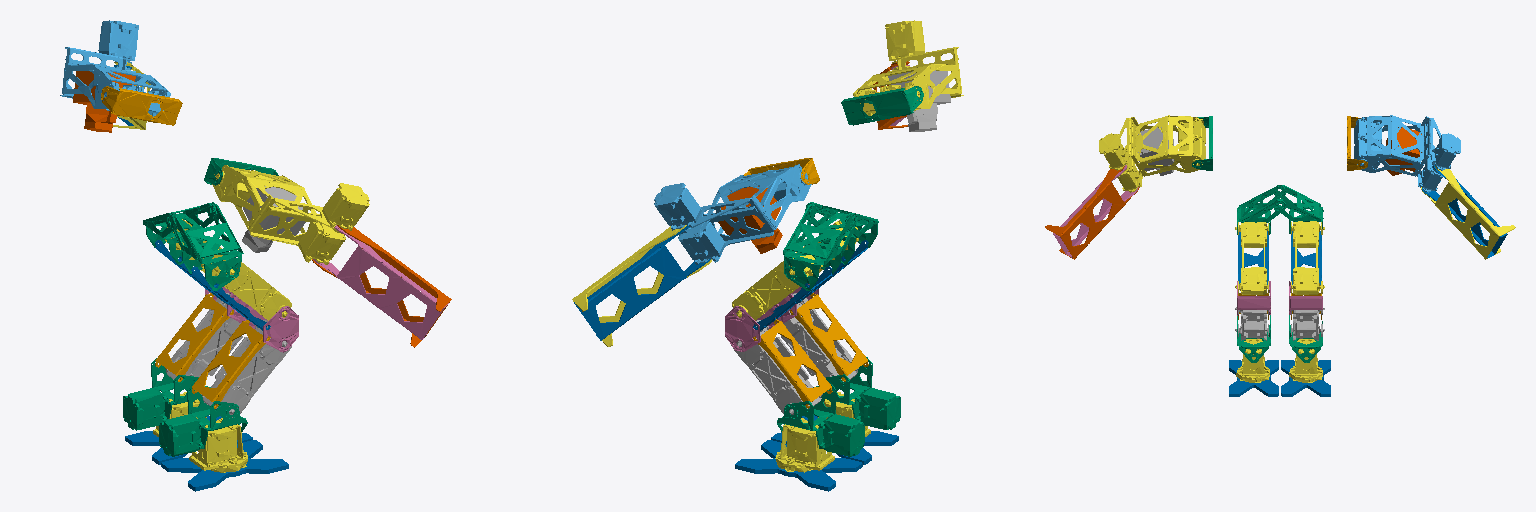
--- Render facts (derived) ---
3 views of the same robot in one strip: view 1: azimuth 30°, elevation 25°; view 2: azimuth 150°, elevation 25°; view 3: azimuth 270°, elevation 25° (orthographic).
Robot: ginko_xacro — 46 links, 45 joints (33 revolute, 12 fixed); root link body_link0; default pose: all joints at 0.
Visible links, largest first — view 1: arm_r_link1, arm_l_link1, arm_r_link3, leg_r_link0, leg_r_link6, leg_l_link6, leg_r_link4, leg_l_link5, leg_r_link5, leg_r_link8, arm_l_link0, leg_r_link7 (+10 smaller); view 2: arm_l_link1, arm_r_link1, arm_l_link3, leg_l_link0, leg_l_link6, leg_r_link6, leg_l_link4, leg_l_link5, leg_r_link5, leg_l_link8, arm_r_link0, leg_l_link7 (+10 smaller); view 3: arm_l_link1, arm_r_link1, arm_r_link2, arm_l_link2, leg_l_link1, leg_r_link1, leg_r_link0, leg_l_link0, leg_l_link8, leg_r_link8, arm_l_link3, arm_r_link3 (+10 smaller).
Link boxes in pixels (x1,y1,x2,y2): arm_r_link1: [212, 165, 369, 264]; arm_l_link1: [60, 20, 170, 119]; arm_r_link3: [313, 225, 448, 339]; leg_r_link0: [170, 202, 243, 290]; leg_r_link6: [159, 384, 247, 456]; leg_l_link6: [123, 358, 198, 430]; leg_r_link4: [201, 320, 291, 417]; leg_l_link5: [155, 293, 233, 381]; leg_r_link5: [192, 320, 270, 408]; leg_r_link8: [161, 440, 288, 491]; arm_l_link0: [101, 86, 182, 125]; leg_r_link7: [189, 418, 247, 472]; arm_l_link1: [654, 164, 811, 264]; arm_r_link1: [853, 20, 963, 115]; arm_l_link3: [574, 225, 710, 340]; leg_l_link0: [783, 202, 857, 290]; leg_l_link6: [777, 384, 864, 456]; leg_r_link6: [826, 357, 900, 429]; leg_l_link4: [731, 320, 822, 414]; leg_l_link5: [753, 319, 832, 408]; leg_r_link5: [790, 293, 868, 381]; leg_l_link8: [735, 440, 862, 491]; arm_r_link0: [841, 86, 923, 125]; leg_l_link7: [775, 418, 834, 472]; arm_l_link1: [1354, 115, 1460, 192]; arm_r_link1: [1099, 115, 1205, 192]; arm_r_link2: [1045, 166, 1139, 259]; arm_l_link2: [1421, 166, 1515, 259]; leg_l_link1: [1291, 221, 1324, 294]; leg_r_link1: [1235, 222, 1268, 294]; leg_r_link0: [1237, 185, 1286, 234]; leg_l_link0: [1276, 185, 1323, 233]; leg_l_link8: [1281, 360, 1330, 396]; leg_r_link8: [1229, 360, 1278, 396]; arm_l_link3: [1422, 165, 1507, 257]; arm_r_link3: [1053, 165, 1138, 257].
Size in the robot's own frame: 0.2079 by 0.7542 by 0.448 metres.
28 mesh visuals loaded from 25 distinct referenced files (23 OBJ); not drawn: 2 (reference not matched to a file when rendering).

URDF robot description (ginko_xacro):
<?xml version="1.0" ?>
<!-- =================================================================================== -->
<!-- |    This document was autogenerated by xacro from ./ginko.xacro                  | -->
<!-- |    EDITING THIS FILE BY HAND IS NOT RECOMMENDED                                 | -->
<!-- =================================================================================== -->
<robot name="ginko_xacro" xmlns:xacro="http://www.ros.org/wiki/xacro">
  <!-- chest -->
  <link name="body_link0">
    <collision>
      <origin rpy="0 0 0" xyz="0 0 0"/>
      <geometry>
        <mesh filename="package://ginko_description/meshes/stl/link00_chest.stl"/>
      </geometry>
    </collision>
    <visual>
      <origin rpy="0 0 0" xyz="0 0 0"/>
      <geometry>
        <mesh filename="package://ginko_description/meshes/obj/link00_chest.obj"/>
      </geometry>
    </visual>
    <inertial>
      <mass value="1.41502697"/>
      <origin rpy="0 0 0" xyz="0.00008301 0.00000908 0.03819562"/>
      <inertia ixx="0.00248548" ixy="-0.00000074" ixz="0.000003761" iyy="0.00121388" iyz="-0.00000042" izz="0.00287756"/>
    </inertial>
  </link>
  <!-- Joint1 -->
  <joint name="body_joint1" type="revolute">
    <parent link="body_link0"/>
    <child link="body_link1"/>
    <origin rpy="0 0 0" xyz="0.0 0 0"/>
    <axis xyz="0 0 1"/>
    <limit effort="1000.0" lower="-2.6" upper="2.6" velocity="10.0"/>
    <dynamics damping="0.1" friction="0.1"/>
  </joint>
  <!-- waist -->
  <link name="body_link1">
    <collision>
      <origin rpy="0 0 0" xyz="0 0 0"/>
      <geometry>
        <mesh filename="package://ginko_description/meshes/stl/link01_waist.stl"/>
      </geometry>
    </collision>
    <visual>
      <origin rpy="0 0 0" xyz="0 0 0"/>
      <geometry>
        <mesh filename="package://ginko_description/meshes/obj/link01_waist.obj"/>
      </geometry>
    </visual>
    <inertial>
      <mass value="0.33312665"/>
      <origin rpy="0 0 0" xyz="-0.01135452 -0.00000134 -0.02720222"/>
      <inertia ixx="0.00015328" ixy="0.00000003" ixz="0.00001078" iyy="0.00073745" iyz="0.00000000" izz="0.00073107"/>
    </inertial>
  </link>
  <gazebo reference="body_link0">
    <kp>1000000.0</kp>
    <kd>100.0</kd>
    <mu1>0.1</mu1>
    <maxVel>10.0</maxVel>
    <minDepth>0.0001</minDepth>
    <maxContacts>6</maxContacts>
    <selfCollide>false</selfCollide>
    <dampingFactor>0.00</dampingFactor>
  </gazebo>
  <transmission name="body_joint1_trans">
    <type>transmission_interface/SimpleTransmission</type>
    <joint name="body_joint1">
      <hardwareInterface>PositionDutyPidMotorInterface</hardwareInterface>
    </joint>
    <actuator name="body_joint1_motor">
      <hardwareInterface>PositionDutyPidMotorInterface</hardwareInterface>
      <mechanicalReduction>1</mechanicalReduction>
    </actuator>
  </transmission>
  <gazebo reference="body_link1">
    <kp>1000000.0</kp>
    <kd>100.0</kd>
    <mu1>0.1</mu1>
    <maxVel>10.0</maxVel>
    <minDepth>0.0001</minDepth>
    <maxContacts>6</maxContacts>
    <selfCollide>false</selfCollide>
    <dampingFactor>0.00</dampingFactor>
  </gazebo>
  <!-- Link conencts from body. Femoral first. -->
  <joint name="leg_r_joint0" type="revolute">
    <parent link="body_link1"/>
    <child link="leg_r_link0"/>
    <origin rpy="0 0 0" xyz="0.0205 0.0 -0.0409"/>
    <axis xyz="1 0 0"/>
    <limit effort="1000.0" lower="-1.0" upper="0.8" velocity="10.0"/>
    <dynamics damping="0.1" friction="0.1"/>
  </joint>
  <link name="leg_r_link0">
    <collision>
      <origin rpy="0 0 0" xyz="0 0 0"/>
      <geometry>
        <mesh filename="package://ginko_description/meshes/stl/link02_r_femoral.stl"/>
      </geometry>
    </collision>
    <visual>
      <origin rpy="0 0 0" xyz="0 0 0"/>
      <geometry>
        <mesh filename="package://ginko_description/meshes/obj/link02_r_femoral.obj"/>
      </geometry>
    </visual>
    <inertial>
      <mass value="0.03431457"/>
      <origin rpy="0 0 0" xyz="-0.02905818 -0.03723481 -0.02604954"/>
      <inertia ixx="0.00002441" ixy="0.00000001" ixz="0.00000021" iyy="0.00002285" iyz="0.00000391" izz="0.00002980"/>
    </inertial>
  </link>
  <!-- parallel link (upper-1st) -->
  <joint name="leg_r_joint1" type="revolute">
    <parent link="leg_r_link0"/>
    <child link="leg_r_link1"/>
    <origin rpy="0 0.7854 0" xyz="-0.0176 -0.0175 -0.0481"/>
    <axis xyz="0 1 0"/>
    <limit effort="1000.0" lower="-0.7854" upper="1.3" velocity="10.0"/>
    <dynamics damping="0.1" friction="0.1"/>
  </joint>
  <link name="leg_r_link1">
    <collision>
      <origin rpy="0 0 0" xyz="0 0 0"/>
      <geometry>
        <mesh filename="package://ginko_description/meshes/stl/link03_r_leg01.stl"/>
      </geometry>
    </collision>
    <visual>
      <origin rpy="0 0 0" xyz="0 0 0"/>
      <geometry>
        <mesh filename="package://ginko_description/meshes/obj/link03_r_leg01.obj"/>
      </geometry>
    </visual>
    <inertial>
      <mass value="0.15115113"/>
      <origin rpy="0 0 0" xyz="0.05000000 -0.02587267 0.00000000"/>
      <inertia ixx="0.00003721" ixy="0.00000000" ixz="0.00000000" iyy="0.00026035" iyz="0.00000000" izz="0.00028077"/>
    </inertial>
  </link>
  <joint name="leg_r_joint3" type="revolute">
    <parent link="leg_r_link1"/>
    <child link="leg_r_link3"/>
    <origin rpy="0 -0.7854 0" xyz="0.1 0.0 0.0"/>
    <axis xyz="0 -1 0"/>
    <limit effort="1000.0" lower="-0.7854" upper="1.3" velocity="10.0"/>
    <dynamics damping="0.1" friction="0.1"/>
    <mimic joint="leg_r_joint1" multiplier="1" offset="0"/>
  </joint>
  <!-- parallel link (upper-2nd) -->
  <joint name="leg_r_joint2" type="revolute">
    <parent link="leg_r_link0"/>
    <child link="leg_r_link2"/>
    <origin rpy="0 0.7854 0" xyz="-0.0389 -0.0175 -0.06015"/>
    <axis xyz="0 1 0"/>
    <limit effort="1000.0" lower="-0.7854" upper="1.3" velocity="10.0"/>
    <dynamics damping="0.0" friction="0.0"/>
    <mimic joint="leg_r_joint1" multiplier="1" offset="0"/>
  </joint>
  <link name="leg_r_link2">
    <collision>
      <origin rpy="0 0 0" xyz="0 0 0"/>
      <geometry>
        <mesh filename="package://ginko_description/meshes/stl/link04_r_leg02.stl"/>
      </geometry>
    </collision>
    <visual>
      <origin rpy="0 0 0" xyz="0 0 0"/>
      <geometry>
        <mesh filename="package://ginko_description/meshes/obj/link04_r_leg02.obj"/>
      </geometry>
    </visual>
    <inertial>
      <mass value="0.01646643"/>
      <origin rpy="0 0 0" xyz="0.05000000 -0.02495100 -0.00491150"/>
      <inertia ixx="0.00000640" ixy="0.00000000" ixz="0.00000000" iyy="0.00001642" iyz="0.00000000" izz="0.00002264"/>
    </inertial>
  </link>
  <joint name="close_leg_r_joint0" type="revolute">
    <parent link="leg_r_link2"/>
    <child link="dummy0_leg_r_link3"/>
    <origin rpy="0 -0.7854 0" xyz="0.1 0.0 0.0"/>
    <axis xyz="0 -1 0"/>
    <limit effort="1000.0" lower="-0.7854" upper="1.3" velocity="10.0"/>
    <dynamics damping="0.0" friction="0.0"/>
    <mimic joint="leg_r_joint1" multiplier="1" offset="0"/>
  </joint>
  <link name="dummy0_leg_r_link3">
    <inertial>
      <mass value="0.00001"/>
      <origin rpy="0 0 0" xyz="-0.021 0 -0.012"/>
      <inertia ixx="0.00000001" ixy="0.00000000" ixz="0.00000000" iyy="0.00000001" iyz="0.00000000" izz="0.00000001"/>
    </inertial>
  </link>
  <!-- knee -->
  <link name="leg_r_link3">
    <collision>
      <origin rpy="0 0 0" xyz="0 0 0"/>
      <geometry>
        <mesh filename="package://ginko_description/meshes/stl/link05_r_knee.stl"/>
      </geometry>
    </collision>
    <visual>
      <origin rpy="0 0 0" xyz="0 0 0"/>
      <geometry>
        <mesh filename="package://ginko_description/meshes/obj/link05_r_knee.obj"/>
      </geometry>
    </visual>
    <inertial>
      <mass value="0.01781176"/>
      <origin rpy="0 0 0" xyz="0.00393357 -0.02364163 -0.01930000"/>
      <inertia ixx="0.00001301" ixy="-0.00000008" ixz="0.00000000" iyy="0.00000700" iyz="0.00000000" izz="0.00001388"/>
    </inertial>
  </link>
  <!-- parallel link (lower-1st) -->
  <joint name="leg_r_joint4" type="revolute">
    <parent link="leg_r_link3"/>
    <child link="leg_r_link4"/>
    <origin rpy="0 2.3562 0" xyz="0 0 -0.0386"/>
    <axis xyz="0 1 0"/>
    <limit effort="1000.0" lower="-1.3" upper="0.7854" velocity="10.0"/>
    <dynamics damping="0.1" friction="0.1"/>
  </joint>
  <link name="leg_r_link4">
    <collision>
      <origin rpy="0 0 0" xyz="0 0 0"/>
      <geometry>
        <mesh filename="package://ginko_description/meshes/stl/link03_r_leg01.stl"/>
      </geometry>
    </collision>
    <visual>
      <origin rpy="0 0 0" xyz="0 0 0"/>
      <geometry>
        <mesh filename="package://ginko_description/meshes/obj/link03_r_leg01.obj"/>
      </geometry>
    </visual>
    <inertial>
      <mass value="0.15115113"/>
      <origin rpy="0 0 0" xyz="0.05000000 -0.02587267 0.00000000"/>
      <inertia ixx="0.00003721" ixy="0.00000000" ixz="0.00000000" iyy="0.00026035" iyz="0.00000000" izz="0.00028077"/>
    </inertial>
  </link>
  <joint name="leg_r_joint6" type="revolute">
    <parent link="leg_r_link4"/>
    <child link="leg_r_link6"/>
    <origin rpy="0 -2.3562 0" xyz="0.1 0.0 0.0"/>
    <axis xyz="0 -1 0"/>
    <limit effort="1000.0" lower="-1.3" upper="0.7854" velocity="10.0"/>
    <dynamics damping="0.1" friction="0.1"/>
    <mimic joint="leg_r_joint4" multiplier="1" offset="0"/>
  </joint>
  <!-- parallel link (lower-2nd) -->
  <joint name="leg_r_joint5" type="revolute">
    <parent link="leg_r_link3"/>
    <child link="leg_r_link5"/>
    <origin rpy="0 2.3562 0" xyz="-0.0213 0 -0.02655"/>
    <axis xyz="0 1 0"/>
    <limit effort="0.0" lower="-1.3" upper="0.7854" velocity="10.0"/>
    <dynamics damping="0.0" friction="0.0"/>
    <mimic joint="leg_r_joint4" multiplier="1" offset="0"/>
  </joint>
  <link name="leg_r_link5">
    <collision>
      <origin rpy="0 0 0" xyz="0 0 0"/>
      <geometry>
        <mesh filename="package://ginko_description/meshes/stl/link04_r_leg02.stl"/>
      </geometry>
    </collision>
    <visual>
      <origin rpy="0 0 0" xyz="0 0 0"/>
      <geometry>
        <mesh filename="package://ginko_description/meshes/obj/link04_r_leg02.obj"/>
      </geometry>
    </visual>
    <inertial>
      <mass value="0.01646643"/>
      <origin rpy="0 0 0" xyz="0.05000000 -0.02495100 -0.00491150"/>
      <inertia ixx="0.00000640" ixy="0.00000000" ixz="0.00000000" iyy="0.00001642" iyz="0.00000000" izz="0.00002264"/>
    </inertial>
  </link>
  <joint name="close_leg_r_joint1" type="revolute">
    <parent link="leg_r_link5"/>
    <child link="dummy2_leg_r_link6"/>
    <origin rpy="0 -2.3562 0" xyz="0.1 0.0 0.0"/>
    <axis xyz="0 -1 0"/>
    <limit effort="0.0" lower="-1.3" upper="0.7854" velocity="10.0"/>
    <dynamics damping="0.0" friction="0.0"/>
    <mimic joint="leg_r_joint4" multiplier="1" offset="0"/>
  </joint>
  <link name="dummy2_leg_r_link6">
    <inertial>
      <mass value="0.00001"/>
      <origin rpy="0 0 0" xyz="-0.021 0 0.012"/>
      <inertia ixx="0.00000001" ixy="0.00000000" ixz="0.00000000" iyy="0.00000001" iyz="0.00000000" izz="0.00000001"/>
    </inertial>
  </link>
  <!-- toe -->
  <link name="leg_r_link6">
    <collision>
      <origin rpy="0 0 0" xyz="0 0 0"/>
      <geometry>
        <mesh filename="package://ginko_description/meshes/stl/link06_r_toe01.stl"/>
      </geometry>
    </collision>
    <visual>
      <origin rpy="0 0 0" xyz="0 0 0"/>
      <geometry>
        <mesh filename="package://ginko_description/meshes/obj/link06_r_toe01.obj"/>
      </geometry>
    </visual>
    <inertial>
      <mass value="0.08799204"/>
      <origin rpy="0 0 0" xyz="-0.04166125 -0.02463880 -0.02586249"/>
      <inertia ixx="0.00002815" ixy="0.00000041" ixz="0.00000980" iyy="0.00006846" iyz="0.00000026" izz="0.00006529"/>
    </inertial>
  </link>
  <joint name="leg_r_joint7" type="revolute">
    <parent link="leg_r_link6"/>
    <child link="leg_r_link7"/>
    <origin rpy="0 0 0" xyz="-0.028 -0.02475 -0.0391"/>
    <axis xyz="-1 0 0"/>
    <limit effort="1000.0" lower="-1.6" upper="1.6" velocity="10.0"/>
    <dynamics damping="0.1" friction="0.1"/>
  </joint>
  <link name="leg_r_link7">
    <collision>
      <origin rpy="0 0 0" xyz="0 0 0"/>
      <geometry>
        <mesh filename="package://ginko_description/meshes/stl/link07_r_toe02.stl"/>
      </geometry>
    </collision>
    <visual>
      <origin rpy="0 0 0" xyz="0 0 0"/>
      <geometry>
        <mesh filename="package://ginko_description/meshes/obj/link07_r_toe02.obj"/>
      </geometry>
    </visual>
    <inertial>
      <mass value="0.10920041"/>
      <origin rpy="0 0 0" xyz="0.02658756 -0.00000053 -0.01782468"/>
      <inertia ixx="0.00003853" ixy="0.00000000" ixz="-0.00000479" iyy="0.00005192" iyz="0.00000000" izz="0.00003521"/>
    </inertial>
  </link>
  <joint name="leg_r_joint8" type="revolute">
    <parent link="leg_r_link7"/>
    <child link="leg_r_link8"/>
    <origin rpy="0 0 0" xyz="0.0342 0 -0.04"/>
    <axis xyz="0 0 1"/>
    <limit effort="1000.0" lower="-2.6" upper="2.6" velocity="10.0"/>
    <dynamics damping="0.1" friction="0.1"/>
  </joint>
  <link name="leg_r_link8">
    <collision>
      <origin rpy="0 0 0" xyz="0 0 -0.003"/>
      <geometry>
        <box size="0.128 0.08 0.006"/>
      </geometry>
    </collision>
    <visual>
      <origin rpy="0 0 0" xyz="0 0 0"/>
      <geometry>
        <mesh filename="package://ginko_description/meshes/obj/link08_r_toe03.obj"/>
      </geometry>
    </visual>
    <inertial>
      <mass value="0.05363111"/>
      <origin rpy="0 0 0" xyz="0.00000000 0.00000000 -0.00269342"/>
      <inertia ixx="0.00002877" ixy="0.00000000" ixz="0.00000000" iyy="0.00007083" iyz="-0.00000000" izz="0.00009934"/>
    </inertial>
  </link>
  <joint name="leg_r_toe_joint0" type="fixed">
    <parent link="leg_r_link8"/>
    <child link="leg_r_toe_link0"/>
    <origin rpy="0 0 0" xyz="0.064 0.040 -0.005"/>
  </joint>
  <link name="leg_r_toe_link0"/>
  <joint name="leg_r_toe_joint1" type="fixed">
    <parent link="leg_r_link8"/>
    <child link="leg_r_toe_link1"/>
    <origin rpy="0 0 0" xyz="-0.064 0.040 -0.005"/>
  </joint>
  <link name="leg_r_toe_link1"/>
  <joint name="leg_r_toe_joint2" type="fixed">
    <parent link="leg_r_link8"/>
    <child link="leg_r_toe_link2"/>
    <origin rpy="0 0 0" xyz="-0.064 -0.040 -0.005"/>
  </joint>
  <link name="leg_r_toe_link2"/>
  <joint name="leg_r_toe_joint3" type="fixed">
    <parent link="leg_r_link8"/>
    <child link="leg_r_toe_link3"/>
    <origin rpy="0 0 0" xyz="0.064 -0.040 -0.005"/>
  </joint>
  <link name="leg_r_toe_link3"/>
  <joint name="leg_r_toe_center_joint" type="fixed">
    <parent link="leg_r_link8"/>
    <child link="leg_r_toe_center"/>
    <origin rpy="0 0 0" xyz="0.0 0.0 -0.005"/>
  </joint>
  <link name="leg_r_toe_center"/>
  <gazebo reference="leg_r_link0">
    <kp>1000000.0</kp>
    <kd>100.0</kd>
    <mu1>0.2</mu1>
    <maxVel>10.0</maxVel>
    <minDepth>0.0001</minDepth>
    <maxContacts>6</maxContacts>
    <selfCollide>false</selfCollide>
    <dampingFactor>0.00</dampingFactor>
  </gazebo>
  <gazebo reference="leg_r_link1">
    <kp>1000000.0</kp>
    <kd>100.0</kd>
    <mu1>0.2</mu1>
    <maxVel>10.0</maxVel>
    <minDepth>0.0001</minDepth>
    <maxContacts>6</maxContacts>
    <selfCollide>false</selfCollide>
    <dampingFactor>0.00</dampingFactor>
  </gazebo>
  <gazebo reference="leg_r_link3">
    <kp>1000000.0</kp>
    <kd>100.0</kd>
    <mu1>0.2</mu1>
    <maxVel>10.0</maxVel>
    <minDepth>0.0001</minDepth>
    <maxContacts>6</maxContacts>
    <selfCollide>false</selfCollide>
    <dampingFactor>0.00</dampingFactor>
  </gazebo>
  <gazebo reference="leg_r_link4">
    <kp>1000000.0</kp>
    <kd>100.0</kd>
    <mu1>0.2</mu1>
    <maxVel>10.0</maxVel>
    <minDepth>0.0001</minDepth>
    <maxContacts>6</maxContacts>
    <selfCollide>false</selfCollide>
    <dampingFactor>0.00</dampingFactor>
  </gazebo>
  <gazebo reference="leg_r_link6">
    <kp>1000000.0</kp>
    <kd>100.0</kd>
    <mu1>0.2</mu1>
    <maxVel>10.0</maxVel>
    <minDepth>0.0001</minDepth>
    <maxContacts>6</maxContacts>
    <selfCollide>false</selfCollide>
    <dampingFactor>0.00</dampingFactor>
  </gazebo>
  <gazebo reference="leg_r_link7">
    <kp>1000000.0</kp>
    <kd>100.0</kd>
    <mu1>0.2</mu1>
    <maxVel>10.0</maxVel>
    <minDepth>0.0001</minDepth>
    <maxContacts>6</maxContacts>
    <selfCollide>false</selfCollide>
    <dampingFactor>0.00</dampingFactor>
  </gazebo>
  <!-- <xacro:default_link_collision link_name="leg_r_link8" friction="1.0"/> -->
  <gazebo reference="leg_r_link8">
    <kp>2000000.0</kp>
    <kd>200.0</kd>
    <mu1>10.0</mu1>
    <maxVel>1.0</maxVel>
    <minDepth>0.0001</minDepth>
    <maxContacts>6</maxContacts>
    <selfCollide>true</selfCollide>
    <dampingFactor>0.0</dampingFactor>
  </gazebo>
  <transmission name="leg_r_joint0_trans">
    <type>transmission_interface/SimpleTransmission</type>
    <joint name="leg_r_joint0">
      <hardwareInterface>PositionDutyPidMotorInterface</hardwareInterface>
    </joint>
    <actuator name="leg_r_joint0_motor">
      <hardwareInterface>PositionDutyPidMotorInterface</hardwareInterface>
      <mechanicalReduction>1</mechanicalReduction>
    </actuator>
  </transmission>
  <transmission name="leg_r_joint1_trans">
    <type>transmission_interface/SimpleTransmission</type>
    <joint name="leg_r_joint1">
      <hardwareInterface>PositionDutyPidMotorInterface</hardwareInterface>
    </joint>
    <actuator name="leg_r_joint1_motor">
      <hardwareInterface>PositionDutyPidMotorInterface</hardwareInterface>
      <mechanicalReduction>1</mechanicalReduction>
    </actuator>
  </transmission>
  <transmission name="leg_r_joint3_trans">
    <type>transmission_interface/SimpleTransmission</type>
    <joint name="leg_r_joint3">
      <hardwareInterface>PositionDutyPidMotorInterface</hardwareInterface>
    </joint>
    <actuator name="leg_r_joint3_motor">
      <hardwareInterface>PositionDutyPidMotorInterface</hardwareInterface>
      <mechanicalReduction>1</mechanicalReduction>
    </actuator>
  </transmission>
  <transmission name="leg_r_joint4_trans">
    <type>transmission_interface/SimpleTransmission</type>
    <joint name="leg_r_joint4">
      <hardwareInterface>PositionDutyPidMotorInterface</hardwareInterface>
    </joint>
    <actuator name="leg_r_joint4_motor">
      <hardwareInterface>PositionDutyPidMotorInterface</hardwareInterface>
      <mechanicalReduction>1</mechanicalReduction>
    </actuator>
  </transmission>
  <transmission name="leg_r_joint6_trans">
    <type>transmission_interface/SimpleTransmission</type>
    <joint name="leg_r_joint6">
      <hardwareInterface>PositionDutyPidMotorInterface</hardwareInterface>
    </joint>
    <actuator name="leg_r_joint6_motor">
      <hardwareInterface>PositionDutyPidMotorInterface</hardwareInterface>
      <mechanicalReduction>1</mechanicalReduction>
    </actuator>
  </transmission>
  <transmission name="leg_r_joint7_trans">
    <type>transmission_interface/SimpleTransmission</type>
    <joint name="leg_r_joint7">
      <hardwareInterface>PositionDutyPidMotorInterface</hardwareInterface>
    </joint>
    <actuator name="leg_r_joint7_motor">
      <hardwareInterface>PositionDutyPidMotorInterface</hardwareInterface>
      <mechanicalReduction>1</mechanicalReduction>
    </actuator>
  </transmission>
  <transmission name="leg_r_joint8_trans">
    <type>transmission_interface/SimpleTransmission</type>
    <joint name="leg_r_joint8">
      <hardwareInterface>PositionDutyPidMotorInterface</hardwareInterface>
    </joint>
    <actuator name="leg_r_joint8_motor">
      <hardwareInterface>PositionDutyPidMotorInterface</hardwareInterface>
      <mechanicalReduction>1</mechanicalReduction>
    </actuator>
  </transmission>
  <!-- Link conencts from body. Femoral first. -->
  <joint name="leg_l_joint0" type="revolute">
    <parent link="body_link1"/>
    <child link="leg_l_link0"/>
    <origin rpy="0 0 0" xyz="-0.0404 0.0 -0.0409"/>
    <axis xyz="-1 0 0"/>
    <limit effort="1000.0" lower="-0.8" upper="1.0" velocity="10.0"/>
    <dynamics damping="0.1" friction="0.1"/>
  </joint>
  <link name="leg_l_link0">
    <collision>
      <origin rpy="0 0 0" xyz="0 0 0"/>
      <geometry>
        <mesh filename="package://ginko_description/meshes/stl/link02_l_femoral.stl"/>
      </geometry>
    </collision>
    <visual>
      <origin rpy="0 0 0" xyz="0 0 0"/>
      <geometry>
        <mesh filename="package://ginko_description/meshes/obj/link02_l_femoral.obj"/>
      </geometry>
    </visual>
    <inertial>
      <mass value="0.03433352"/>
      <origin rpy="0 0 0" xyz="0.02930795 0.03723759 -0.02605386"/>
      <inertia ixx="0.00002443" ixy="-0.00000021" ixz="-0.00000021" iyy="0.00002287" iyz="-0.00000391" izz="0.00002983"/>
    </inertial>
  </link>
  <!-- parallel link (upper-1st) -->
  <joint name="leg_l_joint1" type="revolute">
    <parent link="leg_l_link0"/>
    <child link="leg_l_link1"/>
    <origin rpy="0 0.7854 0" xyz="0.0433 0.0175 -0.0481"/>
    <axis xyz="0 -1 0"/>
    <limit effort="1000.0" lower="-1.3" upper="0.7854" velocity="10.0"/>
    <dynamics damping="0.1" friction="0.1"/>
  </joint>
  <link name="leg_l_link1">
    <collision>
      <origin rpy="0 0 0" xyz="0 0 0"/>
      <geometry>
        <mesh filename="package://ginko_description/meshes/stl/link03_l_leg01.stl"/>
      </geometry>
    </collision>
    <visual>
      <origin rpy="0 0 0" xyz="0 0 0"/>
      <geometry>
        <mesh filename="package://ginko_description/meshes/obj/link03_l_leg01.obj"/>
      </geometry>
    </visual>
    <inertial>
      <mass value="0.15115113"/>
      <origin rpy="0 0 0" xyz="0.05000000 0.02587267 0.00000000"/>
      <inertia ixx="0.00003721" ixy="0.00000000" ixz="0.00000000" iyy="0.00026035" iyz="0.00000000" izz="0.00028077"/>
    </inertial>
  </link>
  <joint name="leg_l_joint3" type="revolute">
    <parent link="leg_l_link1"/>
    <child link="leg_l_link3"/>
    <origin rpy="0 -0.7854 0" xyz="0.1 0.0 0.0"/>
    <axis xyz="0 1 0"/>
    <limit effort="1000.0" lower="-1.3" upper="0.7854" velocity="10.0"/>
    <dynamics damping="0.1" friction="0.1"/>
    <mimic joint="leg_l_joint1" multiplier="1" offset="0"/>
  </joint>
  <!-- parallel link (upper-2nd) -->
  <joint name="leg_l_joint2" type="revolute">
    <parent link="leg_l_link0"/>
    <child link="leg_l_link2"/>
    <origin rpy="0 0.7854 0" xyz="0.022 0.0175 -0.06015"/>
    <axis xyz="0 -1 0"/>
    <limit effort="1000.0" lower="-1.3" upper="0.7854" velocity="10.0"/>
    <dynamics damping="0.1" friction="0.1"/>
    <mimic joint="leg_l_joint1" multiplier="1" offset="0"/>
  </joint>
  <link name="leg_l_link2">
    <collision>
      <origin rpy="0 0 0" xyz="0 0 0"/>
      <geometry>
        <mesh filename="package://ginko_description/meshes/stl/link04_l_leg02.stl"/>
      </geometry>
    </collision>
    <visual>
      <origin rpy="0 0 0" xyz="0 0 0"/>
      <geometry>
        <mesh filename="package://ginko_description/meshes/obj/link04_l_leg02.obj"/>
      </geometry>
    </visual>
    <inertial>
      <mass value="0.01646643"/>
      <origin rpy="0 0 0" xyz="0.05000000 0.02495100 -0.00491150"/>
      <inertia ixx="0.00000640" ixy="0.00000000" ixz="0.00000000" iyy="0.00001642" iyz="0.00000000" izz="0.00002264"/>
    </inertial>
  </link>
  <joint name="close_leg_l_joint0" type="revolute">
    <parent link="leg_l_link2"/>
    <child link="dummy0_leg_l_link3"/>
    <origin rpy="0 -0.7854 0" xyz="0.1 0.0 0.0"/>
    <axis xyz="0 1 0"/>
    <limit effort="1000.0" lower="-1.3" upper="0.7854" velocity="10.0"/>
    <dynamics damping="0.0" friction="0.0"/>
    <mimic joint="leg_l_joint1" multiplier="1" offset="0"/>
  </joint>
  <link name="dummy0_leg_l_link3">
    <inertial>
      <mass value="0.00001"/>
      <origin rpy="0 0 0" xyz="-0.021 0 -0.012"/>
      <inertia ixx="0.00000001" ixy="0.00000000" ixz="0.00000000" iyy="0.00000001" iyz="0.00000000" izz="0.00000001"/>
    </inertial>
  </link>
  <!-- knee -->
  <link name="leg_l_link3">
    <collision>
      <origin rpy="0 0 0" xyz="0 0 0"/>
      <geometry>
        <mesh filename="package://ginko_description/meshes/stl/link05_l_knee.stl"/>
      </geometry>
    </collision>
    <visual>
      <origin rpy="0 0 0" xyz="0 0 0"/>
      <geometry>
        <mesh filename="package://ginko_description/meshes/obj/link05_l_knee.obj"/>
      </geometry>
    </visual>
    <inertial>
      <mass value="0.01781176"/>
      <origin rpy="0 0 0" xyz="0.00393357 0.02364163 -0.01930000"/>
      <inertia ixx="0.00001301" ixy="0.00000008" ixz="0.00000000" iyy="0.00000700" iyz="0.00000000" izz="0.00001388"/>
    </inertial>
  </link>
  <!-- parallel link (lower-1st) -->
  <joint name="leg_l_joint4" type="revolute">
    <parent link="leg_l_link3"/>
    <child link="leg_l_link4"/>
    <origin rpy="0 2.3562 0" xyz="0 0 -0.0386"/>
    <axis xyz="0 -1 0"/>
    <limit effort="1000.0" lower="-0.7854" upper="1.3" velocity="10.0"/>
    <dynamics damping="0.1" friction="0.1"/>
  </joint>
  <link name="leg_l_link4">
    <collision>
      <origin rpy="0 0 0" xyz="0 0 0"/>
      <geometry>
        <mesh filename="package://ginko_description/meshes/stl/link03_l_leg01.stl"/>
      </geometry>
    </collision>
    <visual>
      <origin rpy="0 0 0" xyz="0 0 0"/>
      <geometry>
        <mesh filename="package://ginko_description/meshes/obj/link03_l_leg01.obj"/>
      </geometry>
    </visual>
    <inertial>
      <mass value="0.15115113"/>
      <origin rpy="0 0 0" xyz="0.05000000 0.02587267 0.00000000"/>
      <inertia ixx="0.00003721" ixy="0.00000000" ixz="0.00000000" iyy="0.00026035" iyz="0.00000000" izz="0.00028077"/>
    </inertial>
  </link>
  <joint name="leg_l_joint6" type="revolute">
    <parent link="leg_l_link4"/>
    <child link="leg_l_link6"/>
    <origin rpy="0 -2.3562 0" xyz="0.1 0.0 0.0"/>
    <axis xyz="0 1 0"/>
    <limit effort="1000.0" lower="-0.7854" upper="1.3" velocity="10.0"/>
    <dynamics damping="0.1" friction="0.1"/>
    <mimic joint="leg_l_joint4" multiplier="1" offset="0"/>
  </joint>
  <!-- parallel link (lower-2nd) -->
  <joint name="leg_l_joint5" type="revolute">
    <parent link="leg_l_link3"/>
    <child link="leg_l_link5"/>
    <origin rpy="0 2.3562 0" xyz="-0.0213 0 -0.02655"/>
    <axis xyz="0 -1 0"/>
    <limit effort="0.0" lower="-0.7854" upper="1.3" velocity="10.0"/>
    <dynamics damping="0.0" friction="0.0"/>
    <mimic joint="leg_l_joint4" multiplier="1" offset="0"/>
  </joint>
  <link name="leg_l_link5">
    <collision>
      <origin rpy="0 0 0" xyz="0 0 0"/>
      <geometry>
        <mesh filename="package://ginko_description/meshes/stl/link04_l_leg02.stl"/>
      </geometry>
    </collision>
    <visual>
      <origin rpy="0 0 0" xyz="0 0 0"/>
      <geometry>
        <mesh filename="package://ginko_description/meshes/obj/link04_l_leg02.obj"/>
      </geometry>
    </visual>
    <inertial>
      <mass value="0.01646643"/>
      <origin rpy="0 0 0" xyz="0.05000000 0.02495100 -0.00491150"/>
      <inertia ixx="0.00000640" ixy="0.00000000" ixz="0.00000000" iyy="0.00001642" iyz="0.00000000" izz="0.00002264"/>
    </inertial>
  </link>
  <joint name="close_leg_l_joint1" type="revolute">
    <parent link="leg_l_link5"/>
    <child link="dummy2_leg_l_link6"/>
    <origin rpy="0 -2.3562 0" xyz="0.1 0.0 0.0"/>
    <axis xyz="0 1 0"/>
    <limit effort="0.0" lower="-1.3" upper="0.7854" velocity="10.0"/>
    <dynamics damping="0.0" friction="0.0"/>
    <mimic joint="leg_l_joint4" multiplier="1" offset="0"/>
  </joint>
  <link name="dummy2_leg_l_link6">
    <inertial>
      <mass value="0.00001"/>
      <origin rpy="0 0 0" xyz="-0.021 0 0.012"/>
      <inertia ixx="0.00000001" ixy="0.00000000" ixz="0.00000000" iyy="0.00000001" iyz="0.00000000" izz="0.00000001"/>
    </inertial>
  </link>
  <!-- toe -->
  <link name="leg_l_link6">
    <collision>
      <origin rpy="0 0 0" xyz="0 0 0"/>
      <geometry>
        <mesh filename="package://ginko_description/meshes/stl/link06_l_toe01.stl"/>
      </geometry>
    </collision>
    <visual>
      <origin rpy="0 0 0" xyz="0 0 0"/>
      <geometry>
        <mesh filename="package://ginko_description/meshes/obj/link06_l_toe01.obj"/>
      </geometry>
    </visual>
    <inertial>
      <mass value="0.08799204"/>
      <origin rpy="0 0 0" xyz="-0.04166125 0.02463880 -0.02586249"/>
      <inertia ixx="0.00002815" ixy="-0.00000041" ixz="0.00000980" iyy="0.00006846" iyz="-0.00000026" izz="0.00006529"/>
    </inertial>
  </link>
  <joint name="leg_l_joint7" type="revolute">
    <parent link="leg_l_link6"/>
    <child link="leg_l_link7"/>
    <origin rpy="0 0 0" xyz="-0.028 0.02475 -0.0391"/>
    <axis xyz="-1 0 0"/>
    <limit effort="1000.0" lower="-1.6" upper="1.6" velocity="10.0"/>
    <dynamics damping="0.1" friction="0.1"/>
  </joint>
  <link name="leg_l_link7">
    <collision>
      <origin rpy="0 0 0" xyz="0 0 0"/>
      <geometry>
        <mesh filename="package://ginko_description/meshes/stl/link07_l_toe02.stl"/>
      </geometry>
    </collision>
    <visual>
      <origin rpy="0 0 0" xyz="0 0 0"/>
      <geometry>
        <mesh filename="package://ginko_description/meshes/obj/link07_l_toe02.obj"/>
      </geometry>
    </visual>
    <inertial>
      <mass value="0.10920041"/>
      <origin rpy="0 0 0" xyz="0.02658756 0.00000053 -0.01782468"/>
      <inertia ixx="0.00003853" ixy="0.00000000" ixz="-0.00000479" iyy="0.00005192" iyz="0.00000000" izz="0.00003521"/>
    </inertial>
  </link>
  <joint name="leg_l_joint8" type="revolute">
    <parent link="leg_l_link7"/>
    <child link="leg_l_link8"/>
    <origin rpy="0 0 0" xyz="0.0342 0 -0.04"/>
    <axis xyz="0 0 1"/>
    <limit effort="1000.0" lower="-2.6" upper="2.6" velocity="10.0"/>
    <dynamics damping="0.1" friction="0.1"/>
  </joint>
  <link name="leg_l_link8">
    <collision>
      <origin rpy="0 0 0" xyz="0 0 -0.003"/>
      <geometry>
        <box size="0.128 0.08 0.006"/>
      </geometry>
    </collision>
    <visual>
      <origin rpy="0 0 0" xyz="0 0 0"/>
      <geometry>
        <mesh filename="package://ginko_description/meshes/obj/link08_l_toe03.obj"/>
      </geometry>
    </visual>
    <inertial>
      <mass value="0.05363111"/>
      <origin rpy="0 0 0" xyz="0.00000000 0.00000000 -0.00269342"/>
      <inertia ixx="0.00002877" ixy="0.00000000" ixz="0.00000000" iyy="0.00007083" iyz="-0.00000000" izz="0.00009934"/>
    </inertial>
  </link>
  <joint name="leg_l_toe_joint0" type="fixed">
    <parent link="leg_l_link8"/>
    <child link="leg_l_toe_link0"/>
    <origin rpy="0 0 0" xyz="0.064 0.040 -0.005"/>
  </joint>
  <link name="leg_l_toe_link0"/>
  <joint name="leg_l_toe_joint1" type="fixed">
    <parent link="leg_l_link8"/>
    <child link="leg_l_toe_link1"/>
    <origin rpy="0 0 0" xyz="-0.064 0.040 -0.005"/>
  </joint>
  <link name="leg_l_toe_link1"/>
  <joint name="leg_l_toe_joint2" type="fixed">
    <parent link="leg_l_link8"/>
    <child link="leg_l_toe_link2"/>
    <origin rpy="0 0 0" xyz="-0.064 -0.040 -0.005"/>
  </joint>
  <link name="leg_l_toe_link2"/>
  <joint name="leg_l_toe_joint3" type="fixed">
    <parent link="leg_l_link8"/>
    <child link="leg_l_toe_link3"/>
    <origin rpy="0 0 0" xyz="0.064 -0.040 -0.005"/>
  </joint>
  <link name="leg_l_toe_link3"/>
  <joint name="leg_l_toe_center_joint" type="fixed">
    <parent link="leg_l_link8"/>
    <child link="leg_l_toe_center"/>
    <origin rpy="0 0 0" xyz="0.0 0.0 -0.005"/>
  </joint>
  <link name="leg_l_toe_center"/>
  <gazebo reference="leg_l_link0">
    <kp>1000000.0</kp>
    <kd>100.0</kd>
    <mu1>0.1</mu1>
    <maxVel>10.0</maxVel>
    <minDepth>0.0001</minDepth>
    <maxContacts>6</maxContacts>
    <selfCollide>false</selfCollide>
    <dampingFactor>0.00</dampingFactor>
  </gazebo>
  <gazebo reference="leg_l_link1">
    <kp>1000000.0</kp>
    <kd>100.0</kd>
    <mu1>0.1</mu1>
    <maxVel>10.0</maxVel>
    <minDepth>0.0001</minDepth>
    <maxContacts>6</maxContacts>
    <selfCollide>false</selfCollide>
    <dampingFactor>0.00</dampingFactor>
  </gazebo>
  <gazebo reference="leg_l_link3">
    <kp>1000000.0</kp>
    <kd>100.0</kd>
    <mu1>0.1</mu1>
    <maxVel>10.0</maxVel>
    <minDepth>0.0001</minDepth>
    <maxContacts>6</maxContacts>
    <selfCollide>false</selfCollide>
    <dampingFactor>0.00</dampingFactor>
  </gazebo>
  <gazebo reference="leg_l_link4">
    <kp>1000000.0</kp>
    <kd>100.0</kd>
    <mu1>0.1</mu1>
    <maxVel>10.0</maxVel>
    <minDepth>0.0001</minDepth>
    <maxContacts>6</maxContacts>
    <selfCollide>false</selfCollide>
    <dampingFactor>0.00</dampingFactor>
  </gazebo>
  <gazebo reference="leg_l_link6">
    <kp>1000000.0</kp>
    <kd>100.0</kd>
    <mu1>0.1</mu1>
    <maxVel>10.0</maxVel>
    <minDepth>0.0001</minDepth>
    <maxContacts>6</maxContacts>
    <selfCollide>false</selfCollide>
    <dampingFactor>0.00</dampingFactor>
  </gazebo>
  <gazebo reference="leg_l_link7">
    <kp>1000000.0</kp>
    <kd>100.0</kd>
    <mu1>0.1</mu1>
    <maxVel>10.0</maxVel>
    <minDepth>0.0001</minDepth>
    <maxContacts>6</maxContacts>
    <selfCollide>false</selfCollide>
    <dampingFactor>0.00</dampingFactor>
  </gazebo>
  <!-- <xacro:default_link_collision link_name="leg_l_link8" friction="1.0"/> -->
  <gazebo reference="leg_l_link8">
    <kp>2000000.0</kp>
    <kd>200.0</kd>
    <mu1>10.0</mu1>
    <maxVel>1.0</maxVel>
    <minDepth>0.0001</minDepth>
    <maxContacts>6</maxContacts>
    <selfCollide>true</selfCollide>
    <dampingFactor>0.0</dampingFactor>
  </gazebo>
  <transmission name="leg_l_joint0_trans">
    <type>transmission_interface/SimpleTransmission</type>
    <joint name="leg_l_joint0">
      <hardwareInterface>PositionDutyPidMotorInterface</hardwareInterface>
    </joint>
    <actuator name="leg_l_joint0_motor">
      <hardwareInterface>PositionDutyPidMotorInterface</hardwareInterface>
      <mechanicalReduction>1</mechanicalReduction>
    </actuator>
  </transmission>
  <transmission name="leg_l_joint1_trans">
    <type>transmission_interface/SimpleTransmission</type>
    <joint name="leg_l_joint1">
      <hardwareInterface>PositionDutyPidMotorInterface</hardwareInterface>
    </joint>
    <actuator name="leg_l_joint1_motor">
      <hardwareInterface>PositionDutyPidMotorInterface</hardwareInterface>
      <mechanicalReduction>1</mechanicalReduction>
    </actuator>
  </transmission>
  <transmission name="leg_l_joint3_trans">
    <type>transmission_interface/SimpleTransmission</type>
    <joint name="leg_l_joint3">
      <hardwareInterface>PositionDutyPidMotorInterface</hardwareInterface>
    </joint>
    <actuator name="leg_l_joint3_motor">
      <hardwareInterface>PositionDutyPidMotorInterface</hardwareInterface>
      <mechanicalReduction>1</mechanicalReduction>
    </actuator>
  </transmission>
  <transmission name="leg_l_joint4_trans">
    <type>transmission_interface/SimpleTransmission</type>
    <joint name="leg_l_joint4">
      <hardwareInterface>PositionDutyPidMotorInterface</hardwareInterface>
    </joint>
    <actuator name="leg_l_joint4_motor">
      <hardwareInterface>PositionDutyPidMotorInterface</hardwareInterface>
      <mechanicalReduction>1</mechanicalReduction>
    </actuator>
  </transmission>
  <transmission name="leg_l_joint6_trans">
    <type>transmission_interface/SimpleTransmission</type>
    <joint name="leg_l_joint6">
      <hardwareInterface>PositionDutyPidMotorInterface</hardwareInterface>
    </joint>
    <actuator name="leg_l_joint6_motor">
      <hardwareInterface>PositionDutyPidMotorInterface</hardwareInterface>
      <mechanicalReduction>1</mechanicalReduction>
    </actuator>
  </transmission>
  <transmission name="leg_l_joint7_trans">
    <type>transmission_interface/SimpleTransmission</type>
    <joint name="leg_l_joint7">
      <hardwareInterface>PositionDutyPidMotorInterface</hardwareInterface>
    </joint>
    <actuator name="leg_l_joint7_motor">
      <hardwareInterface>PositionDutyPidMotorInterface</hardwareInterface>
      <mechanicalReduction>1</mechanicalReduction>
    </actuator>
  </transmission>
  <transmission name="leg_l_joint8_trans">
    <type>transmission_interface/SimpleTransmission</type>
    <joint name="leg_l_joint8">
      <hardwareInterface>PositionDutyPidMotorInterface</hardwareInterface>
    </joint>
    <actuator name="leg_l_joint8_motor">
      <hardwareInterface>PositionDutyPidMotorInterface</hardwareInterface>
      <mechanicalReduction>1</mechanicalReduction>
    </actuator>
  </transmission>
  <!-- shoulder pitch. -->
  <joint name="arm_r_joint0" type="revolute">
    <parent link="body_link0"/>
    <child link="arm_r_link0"/>
    <origin rpy="0 0.3927 0" xyz="0 -0.10683 0.05115"/>
    <axis xyz="0 1 0"/>
    <limit effort="1000.0" lower="-2.6" upper="2.6" velocity="10.0"/>
    <dynamics damping="0.1" friction="0.1"/>
  </joint>
  <link name="arm_r_link0">
    <collision>
      <origin rpy="0 0 0" xyz="0 0 0"/>
      <geometry>
        <mesh filename="package://ginko_description/meshes/stl/link09_r_arm01.stl"/>
      </geometry>
    </collision>
    <visual>
      <origin rpy="0 0 0" xyz="0 0 0"/>
      <geometry>
        <mesh filename="package://ginko_description/meshes/obj/link09_r_arm01.obj"/>
      </geometry>
    </visual>
    <inertial>
      <mass value="0.01356014"/>
      <origin rpy="0 0 0" xyz="-0.01125790 -0.00529265 0.00000000"/>
      <inertia ixx="0.00000235" ixy="-0.00000004" ixz="0.00000000" iyy="0.00001670" iyz="0.00000000" izz="0.00001606"/>
    </inertial>
  </link>
  <!-- shoulder roll -->
  <joint name="arm_r_joint1" type="revolute">
    <parent link="arm_r_link0"/>
    <child link="arm_r_link1"/>
    <origin rpy="-1.1781 0 0" xyz="0.035 -0.0246 0"/>
    <axis xyz="1 0 0"/>
    <limit effort="1000.0" lower="-1.6" upper="1.18" velocity="10.0"/>
    <dynamics damping="0.1" friction="0.1"/>
  </joint>
  <link name="arm_r_link1">
    <collision>
      <origin rpy="0 0 0" xyz="0 0 0"/>
      <geometry>
        <mesh filename="package://ginko_description/meshes/stl/link10_r_arm02.stl"/>
      </geometry>
    </collision>
    <visual>
      <origin rpy="0 0 0" xyz="0 0 0"/>
      <geometry>
        <mesh filename="package://ginko_description/meshes/obj/link10_r_arm02.obj"/>
      </geometry>
    </visual>
    <inertial>
      <mass value="0.33139947"/>
      <origin rpy="0 0 0" xyz="-0.02612786 -0.02650564 -0.06333369"/>
      <inertia ixx="0.00115128" ixy="-0.00015366" ixz="-0.00031848" iyy="0.00113572" iyz="0.00037104" izz="0.00064743"/>
    </inertial>
  </link>
  <joint name="arm_r_joint1_rev" type="revolute">
    <parent link="arm_r_link0"/>
    <child link="dummy0_arm_r_link1"/>
    <origin rpy="-1.1781 0 0" xyz="-0.0562 -0.0246 0"/>
    <axis xyz="-1 0 0"/>
    <limit effort="1000.0" lower="-1.18" upper="1.6" velocity="10.0"/>
    <dynamics damping="0.0" friction="0.0"/>
  </joint>
  <link name="dummy0_arm_r_link1">
    <inertial>
      <mass value="0.00001"/>
      <origin rpy="0 0 0" xyz="-0.0912 0 0"/>
      <inertia ixx="0.00000001" ixy="0.00000000" ixz="0.00000000" iyy="0.00000001" iyz="0.00000000" izz="0.00000001"/>
    </inertial>
  </link>
  <!-- scissors -->
  <joint name="arm_r_joint2" type="revolute">
    <parent link="arm_r_link1"/>
    <child link="arm_r_link2"/>
    <origin rpy="0 0.7854 0" xyz="0.0092 -0.0547 -0.11295"/>
    <axis xyz="0 -1 0"/>
    <limit effort="1000.0" lower="-2.36" upper="2.36" velocity="10.0"/>
    <dynamics damping="0.1" friction="0.1"/>
  </joint>
  <link name="arm_r_link2">
    <collision>
      <origin rpy="0 0 0" xyz="0 0 0"/>
      <geometry>
        <mesh filename="package://ginko_description/meshes/stl/link11_r_scissor01.stl"/>
      </geometry>
    </collision>
    <visual>
      <origin rpy="0 0 0" xyz="0 0 0"/>
      <geometry>
        <mesh filename="package://ginko_description/meshes/obj/link11_r_scissor01.obj"/>
      </geometry>
    </visual>
    <inertial>
      <mass value="0.03287850"/>
      <origin rpy="0 0 0" xyz="0.08234859 0.030246866 0.00514112"/>
      <inertia ixx="0.00002277" ixy="0.00000014" ixz="-0.00000058" iyy="0.00008197" iyz="0.00000001" izz="0.00010105"/>
    </inertial>
  </link>
  <joint name="arm_r_joint3" type="revolute">
    <parent link="arm_r_link1"/>
    <child link="arm_r_link3"/>
    <origin rpy="0 0.7854 0" xyz="0.0092 0.0018 -0.11295"/>
    <axis xyz="0 -1 0"/>
    <limit effort="1000.0" lower="-2.36" upper="2.36" velocity="10.0"/>
    <dynamics damping="0.1" friction="0.1"/>
  </joint>
  <link name="arm_r_link3">
    <collision>
      <origin rpy="0 0 0" xyz="0 0 0"/>
      <geometry>
        <mesh filename="package://ginko_description/meshes/stl/link12_r_scissor02.stl"/>
      </geometry>
    </collision>
    <visual>
      <origin rpy="0 0 0" xyz="0 0 0"/>
      <geometry>
        <mesh filename="package://ginko_description/meshes/obj/link12_r_scissor02.obj"/>
      </geometry>
    </visual>
    <inertial>
      <mass value="0.02936110"/>
      <origin rpy="0 0 0" xyz="0.07807033 -0.02515230 -0.00665437"/>
      <inertia ixx="0.00001452" ixy="-0.00000023" ixz="-0.00000245" iyy="0.00006407" iyz="0.00000002" izz="0.00008024"/>
    </inertial>
  </link>
  <joint name="arm_r_urg_joint" type="fixed">
    <parent link="arm_r_link1"/>
    <child link="arm_r_urg_link"/>
    <origin rpy="0 1.57 1.57" xyz="-0.0456 0.01715 -0.06795"/>
  </joint>
  <link name="arm_r_urg_link">
    <collision>
      <origin rpy="0 0 0" xyz="0 0 0"/>
      <geometry>
        <mesh filename="package://ginko_description/meshes/stl/urg.stl"/>
      </geometry>
    </collision>
    <visual>
      <origin rpy="0 0 0" xyz="0 0 0"/>
      <geometry>
        <mesh filename="package://ginko_description/meshes/obj/urg.obj"/>
      </geometry>
    </visual>
    <inertial>
      <mass value="0.16705492"/>
      <origin rpy="0 0 0" xyz="-0.00014579 0.00000831 -0.02360505"/>
      <inertia ixx="0.00008801" ixy="0.00000000" ixz="-0.00000049" iyy="0.00008854" iyz="-0.00000004" izz="0.00006019"/>
    </inertial>
  </link>
  <gazebo reference="arm_r_link0">
    <kp>1000000.0</kp>
    <kd>100.0</kd>
    <mu1>0.1</mu1>
    <maxVel>10.0</maxVel>
    <minDepth>0.0001</minDepth>
    <maxContacts>6</maxContacts>
    <selfCollide>false</selfCollide>
    <dampingFactor>0.00</dampingFactor>
  </gazebo>
  <gazebo reference="arm_r_link1">
    <kp>1000000.0</kp>
    <kd>100.0</kd>
    <mu1>0.1</mu1>
    <maxVel>10.0</maxVel>
    <minDepth>0.0001</minDepth>
    <maxContacts>6</maxContacts>
    <selfCollide>false</selfCollide>
    <dampingFactor>0.00</dampingFactor>
  </gazebo>
  <gazebo reference="arm_r_link2">
    <kp>1000000.0</kp>
    <kd>100.0</kd>
    <mu1>0.1</mu1>
    <maxVel>10.0</maxVel>
    <minDepth>0.0001</minDepth>
    <maxContacts>6</maxContacts>
    <selfCollide>false</selfCollide>
    <dampingFactor>0.00</dampingFactor>
  </gazebo>
  <gazebo reference="arm_r_link3">
    <kp>1000000.0</kp>
    <kd>100.0</kd>
    <mu1>0.1</mu1>
    <maxVel>10.0</maxVel>
    <minDepth>0.0001</minDepth>
    <maxContacts>6</maxContacts>
    <selfCollide>false</selfCollide>
    <dampingFactor>0.00</dampingFactor>
  </gazebo>
  <transmission name="arm_r_joint0_trans">
    <type>transmission_interface/SimpleTransmission</type>
    <joint name="arm_r_joint0">
      <hardwareInterface>PositionDutyPidMotorInterface</hardwareInterface>
    </joint>
    <actuator name="arm_r_joint0_motor">
      <hardwareInterface>PositionDutyPidMotorInterface</hardwareInterface>
      <mechanicalReduction>1</mechanicalReduction>
    </actuator>
  </transmission>
  <transmission name="arm_r_joint1_trans">
    <type>transmission_interface/SimpleTransmission</type>
    <joint name="arm_r_joint1">
      <hardwareInterface>PositionDutyPidMotorInterface</hardwareInterface>
    </joint>
    <actuator name="arm_r_joint1_motor">
      <hardwareInterface>PositionDutyPidMotorInterface</hardwareInterface>
      <mechanicalReduction>1</mechanicalReduction>
    </actuator>
  </transmission>
  <transmission name="arm_r_joint1_rev_trans">
    <type>transmission_interface/SimpleTransmission</type>
    <joint name="arm_r_joint1_rev">
      <hardwareInterface>PositionDutyPidMotorInterface</hardwareInterface>
    </joint>
    <actuator name="arm_r_joint1_rev_motor">
      <hardwareInterface>PositionDutyPidMotorInterface</hardwareInterface>
      <mechanicalReduction>1</mechanicalReduction>
    </actuator>
  </transmission>
  <transmission name="arm_r_joint2_trans">
    <type>transmission_interface/SimpleTransmission</type>
    <joint name="arm_r_joint2">
      <hardwareInterface>PositionDutyPidMotorInterface</hardwareInterface>
    </joint>
    <actuator name="arm_r_joint2_motor">
      <hardwareInterface>PositionDutyPidMotorInterface</hardwareInterface>
      <mechanicalReduction>1</mechanicalReduction>
    </actuator>
  </transmission>
  <transmission name="arm_r_joint3_trans">
    <type>transmission_interface/SimpleTransmission</type>
    <joint name="arm_r_joint3">
      <hardwareInterface>PositionDutyPidMotorInterface</hardwareInterface>
    </joint>
    <actuator name="arm_r_joint3_motor">
      <hardwareInterface>PositionDutyPidMotorInterface</hardwareInterface>
      <mechanicalReduction>1</mechanicalReduction>
    </actuator>
  </transmission>
  <!-- shoulder pitch. -->
  <joint name="arm_l_joint0" type="revolute">
    <parent link="body_link0"/>
    <child link="arm_l_link0"/>
    <origin rpy="0 0.3927 0" xyz="0 0.10683 0.05115"/>
    <axis xyz="0 -1 0"/>
    <limit effort="1000.0" lower="-2.6" upper="2.6" velocity="10.0"/>
    <dynamics damping="0.1" friction="0.1"/>
  </joint>
  <link name="arm_l_link0">
    <collision>
      <origin rpy="0 0 0" xyz="0 0 0"/>
      <geometry>
        <mesh filename="package://ginko_description/meshes/stl/link09_l_arm01.stl"/>
      </geometry>
    </collision>
    <visual>
      <origin rpy="0 0 0" xyz="0 0 0"/>
      <geometry>
        <mesh filename="package://ginko_description/meshes/obj/link09_l_arm01.obj"/>
      </geometry>
    </visual>
    <inertial>
      <mass value="0.01356014"/>
      <origin rpy="0 0 0" xyz="-0.01125790 0.00529265 0.00000000"/>
      <inertia ixx="0.00000235" ixy="0.00000004" ixz="0.00000000" iyy="0.00001670" iyz="0.00000000" izz="0.00001606"/>
    </inertial>
  </link>
  <!-- shoulder roll -->
  <joint name="arm_l_joint1" type="revolute">
    <parent link="arm_l_link0"/>
    <child link="arm_l_link1"/>
    <origin rpy="1.1781 0 0" xyz="0.035 0.0246 0"/>
    <axis xyz="1 0 0"/>
    <limit effort="1000.0" lower="-1.18" upper="1.6" velocity="10.0"/>
    <dynamics damping="0.1" friction="0.1"/>
  </joint>
  <link name="arm_l_link1">
    <collision>
      <origin rpy="0 0 0" xyz="0 0 0"/>
      <geometry>
        <mesh filename="package://ginko_description/meshes/stl/link10_l_arm02.stl"/>
      </geometry>
    </collision>
    <visual>
      <origin rpy="0 0 0" xyz="0 0 0"/>
      <geometry>
        <mesh filename="package://ginko_description/meshes/obj/link10_l_arm02.obj"/>
      </geometry>
    </visual>
    <inertial>
      <mass value="0.33139947"/>
      <origin rpy="0 0 0" xyz="-0.02612786 0.02650564 -0.06333369"/>
      <inertia ixx="0.00115128" ixy="0.00015366" ixz="-0.00031848" iyy="0.00113572" iyz="-0.00037104" izz="0.00064743"/>
    </inertial>
  </link>
  <joint name="arm_l_joint1_rev" type="revolute">
    <parent link="arm_l_link0"/>
    <child link="dummy0_arm_l_link1"/>
    <origin rpy="1.1781 0 0" xyz="-0.0562 0.0246 0"/>
    <axis xyz="-1 0 0"/>
    <limit effort="1000.0" lower="-1.6" upper="1.18" velocity="10.0"/>
    <dynamics damping="0.0" friction="0.0"/>
  </joint>
  <link name="dummy0_arm_l_link1">
    <inertial>
      <mass value="0.00001"/>
      <origin rpy="0 0 0" xyz="-0.0912 0 0"/>
      <inertia ixx="0.00000001" ixy="0.00000000" ixz="0.00000000" iyy="0.00000001" iyz="0.00000000" izz="0.00000001"/>
    </inertial>
  </link>
  <!-- scissors -->
  <joint name="arm_l_joint2" type="revolute">
    <parent link="arm_l_link1"/>
    <child link="arm_l_link2"/>
    <origin rpy="0 0.7854 0" xyz="0.0092 0.0547 -0.11295"/>
    <axis xyz="0 1 0"/>
    <limit effort="1000.0" lower="-2.36" upper="2.36" velocity="10.0"/>
    <dynamics damping="0.1" friction="0.1"/>
  </joint>
  <link name="arm_l_link2">
    <collision>
      <origin rpy="0 0 0" xyz="0 0 0"/>
      <geometry>
        <mesh filename="package://ginko_description/meshes/stl/link11_l_scissor01.stl"/>
      </geometry>
    </collision>
    <visual>
      <origin rpy="0 0 0" xyz="0 0 0"/>
      <geometry>
        <mesh filename="package://ginko_description/meshes/obj/link11_l_scissor01.obj"/>
      </geometry>
    </visual>
    <inertial>
      <mass value="0.03287850"/>
      <origin rpy="0 0 0" xyz="0.08234859 -0.030246866 0.00514112"/>
      <inertia ixx="0.00002277" ixy="-0.00000014" ixz="-0.00000058" iyy="0.00008197" iyz="-0.00000001" izz="0.00010105"/>
    </inertial>
  </link>
  <joint name="arm_l_joint3" type="revolute">
    <parent link="arm_l_link1"/>
    <child link="arm_l_link3"/>
    <origin rpy="0 0.7854 0" xyz="0.0092 -0.0018 -0.11295"/>
    <axis xyz="0 1 0"/>
    <limit effort="1000.0" lower="-2.36" upper="2.36" velocity="10.0"/>
    <dynamics damping="0.1" friction="0.1"/>
  </joint>
  <link name="arm_l_link3">
    <collision>
      <origin rpy="0 0 0" xyz="0 0 0"/>
      <geometry>
        <mesh filename="package://ginko_description/meshes/stl/link12_l_scissor02.stl"/>
      </geometry>
    </collision>
    <visual>
      <origin rpy="0 0 0" xyz="0 0 0"/>
      <geometry>
        <mesh filename="package://ginko_description/meshes/obj/link12_l_scissor02.obj"/>
      </geometry>
    </visual>
    <inertial>
      <mass value="0.02936110"/>
      <origin rpy="0 0 0" xyz="0.07807033 0.02515230 -0.00665437"/>
      <inertia ixx="0.00001452" ixy="0.00000023" ixz="-0.00000245" iyy="0.00006407" iyz="-0.00000002" izz="0.00008024"/>
    </inertial>
  </link>
  <joint name="arm_l_urg_joint" type="fixed">
    <parent link="arm_l_link1"/>
    <child link="arm_l_urg_link"/>
    <origin rpy="0 1.57 -1.57" xyz="-0.0456 -0.01715 -0.06795"/>
  </joint>
  <link name="arm_l_urg_link">
    <collision>
      <origin rpy="0 0 0" xyz="0 0 0"/>
      <geometry>
        <mesh filename="package://ginko_description/meshes/stl/urg.stl"/>
      </geometry>
    </collision>
    <visual>
      <origin rpy="0 0 0" xyz="0 0 0"/>
      <geometry>
        <mesh filename="package://ginko_description/meshes/obj/urg.obj"/>
      </geometry>
    </visual>
    <inertial>
      <mass value="0.16705492"/>
      <origin rpy="0 0 0" xyz="-0.00014579 0.00000831 -0.02360505"/>
      <inertia ixx="0.00008801" ixy="0.00000000" ixz="-0.00000049" iyy="0.00008854" iyz="-0.00000004" izz="0.00006019"/>
    </inertial>
  </link>
  <gazebo reference="arm_l_link0">
    <kp>1000000.0</kp>
    <kd>100.0</kd>
    <mu1>0.1</mu1>
    <maxVel>10.0</maxVel>
    <minDepth>0.0001</minDepth>
    <maxContacts>6</maxContacts>
    <selfCollide>false</selfCollide>
    <dampingFactor>0.00</dampingFactor>
  </gazebo>
  <gazebo reference="arm_l_link1">
    <kp>1000000.0</kp>
    <kd>100.0</kd>
    <mu1>0.1</mu1>
    <maxVel>10.0</maxVel>
    <minDepth>0.0001</minDepth>
    <maxContacts>6</maxContacts>
    <selfCollide>false</selfCollide>
    <dampingFactor>0.00</dampingFactor>
  </gazebo>
  <gazebo reference="arm_l_link2">
    <kp>1000000.0</kp>
    <kd>100.0</kd>
    <mu1>0.1</mu1>
    <maxVel>10.0</maxVel>
    <minDepth>0.0001</minDepth>
    <maxContacts>6</maxContacts>
    <selfCollide>false</selfCollide>
    <dampingFactor>0.00</dampingFactor>
  </gazebo>
  <gazebo reference="arm_l_link3">
    <kp>1000000.0</kp>
    <kd>100.0</kd>
    <mu1>0.1</mu1>
    <maxVel>10.0</maxVel>
    <minDepth>0.0001</minDepth>
    <maxContacts>6</maxContacts>
    <selfCollide>false</selfCollide>
    <dampingFactor>0.00</dampingFactor>
  </gazebo>
  <transmission name="arm_l_joint0_trans">
    <type>transmission_interface/SimpleTransmission</type>
    <joint name="arm_l_joint0">
      <hardwareInterface>PositionDutyPidMotorInterface</hardwareInterface>
    </joint>
    <actuator name="arm_l_joint0_motor">
      <hardwareInterface>PositionDutyPidMotorInterface</hardwareInterface>
      <mechanicalReduction>1</mechanicalReduction>
    </actuator>
  </transmission>
  <transmission name="arm_l_joint1_trans">
    <type>transmission_interface/SimpleTransmission</type>
    <joint name="arm_l_joint1">
      <hardwareInterface>PositionDutyPidMotorInterface</hardwareInterface>
    </joint>
    <actuator name="arm_l_joint1_motor">
      <hardwareInterface>PositionDutyPidMotorInterface</hardwareInterface>
      <mechanicalReduction>1</mechanicalReduction>
    </actuator>
  </transmission>
  <transmission name="arm_l_joint1_rev_trans">
    <type>transmission_interface/SimpleTransmission</type>
    <joint name="arm_l_joint1_rev">
      <hardwareInterface>PositionDutyPidMotorInterface</hardwareInterface>
    </joint>
    <actuator name="arm_l_joint1_rev_motor">
      <hardwareInterface>PositionDutyPidMotorInterface</hardwareInterface>
      <mechanicalReduction>1</mechanicalReduction>
    </actuator>
  </transmission>
  <transmission name="arm_l_joint2_trans">
    <type>transmission_interface/SimpleTransmission</type>
    <joint name="arm_l_joint2">
      <hardwareInterface>PositionDutyPidMotorInterface</hardwareInterface>
    </joint>
    <actuator name="arm_l_joint2_motor">
      <hardwareInterface>PositionDutyPidMotorInterface</hardwareInterface>
      <mechanicalReduction>1</mechanicalReduction>
    </actuator>
  </transmission>
  <transmission name="arm_l_joint3_trans">
    <type>transmission_interface/SimpleTransmission</type>
    <joint name="arm_l_joint3">
      <hardwareInterface>PositionDutyPidMotorInterface</hardwareInterface>
    </joint>
    <actuator name="arm_l_joint3_motor">
      <hardwareInterface>PositionDutyPidMotorInterface</hardwareInterface>
      <mechanicalReduction>1</mechanicalReduction>
    </actuator>
  </transmission>
  <!-- <xacro:leg_l model_mode="${model_mode}"/> -->
  <!-- <xacro:leg_l_gazebo name="leg_l" gazebo_control_mode="${gazebo_control_mode}"/> -->
  <!--     <xacro:if value="${model_mode=='rviz'}">
      <xacro:leg_r model_mode="common"/>
      <xacro:leg_r_gazebo name="leg_r"/>
    </xacro:if>
    <xacro:if value="${model_mode=='common'}">
      <xacro:leg_r model_mode="common"/>
      <xacro:leg_r_gazebo name="leg_r"/>
    </xacro:if>
    <xacro:if value="${model_mode=='gazebo_part1'}">
      <xacro:leg_r model_mode="gazebo_part1"/>
      <xacro:leg_r_gazebo name="leg_r"/>
    </xacro:if>
    <xacro:if value="${model_mode=='gazebo_part2'}">
      <xacro:leg_r model_mode="common"/>
      <xacro:leg_r_gazebo name="leg_r"/>
    </xacro:if> -->
  <gazebo>
    <plugin filename="libgazebo_ros_control.so" name="gazebo_ros_control">
      <robotNamespace>/ginko</robotNamespace>
      <robotSimType>gazebo_ros_control/GinkoRobotHWSim</robotSimType>
      <legacyModeNS>true</legacyModeNS>
    </plugin>
  </gazebo>
</robot>
